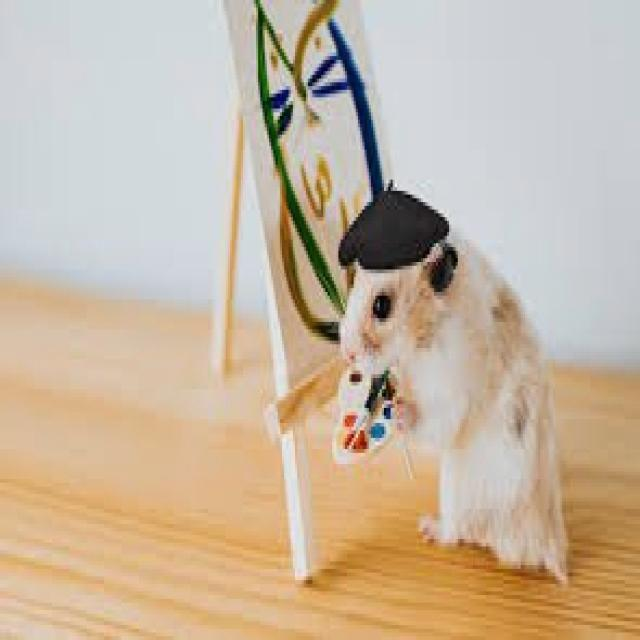hamster: (341, 240, 566, 576)
